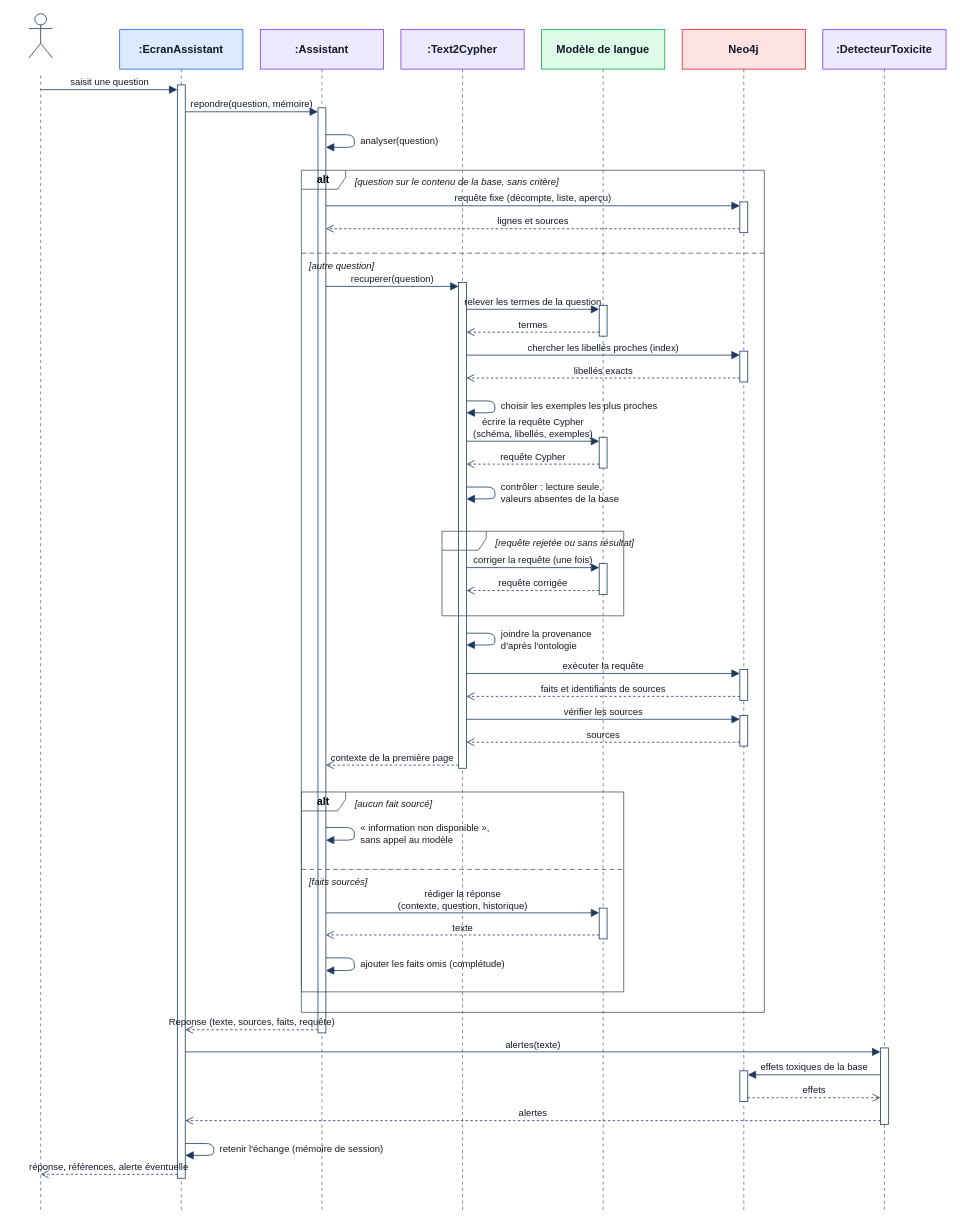
Some shapes in this 960 by 1225 pixel diagram are drawn without their labels. Here are the shapes that lost their labels. From the top down, the centre of each, then its label:
(40,35): Utilisateur
(532,573): opt
